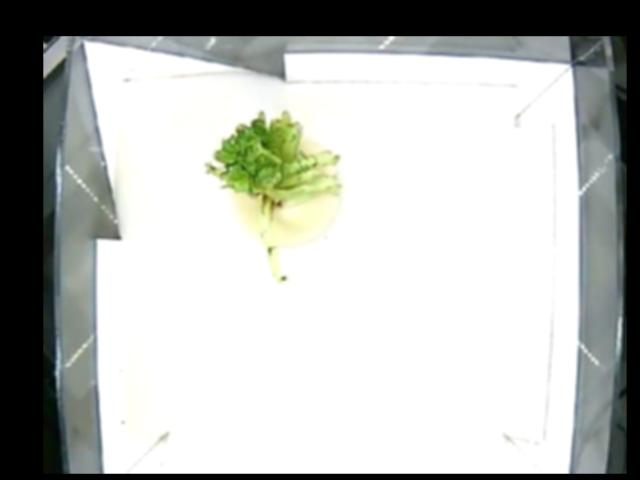Mooli: (205, 110, 342, 282)
